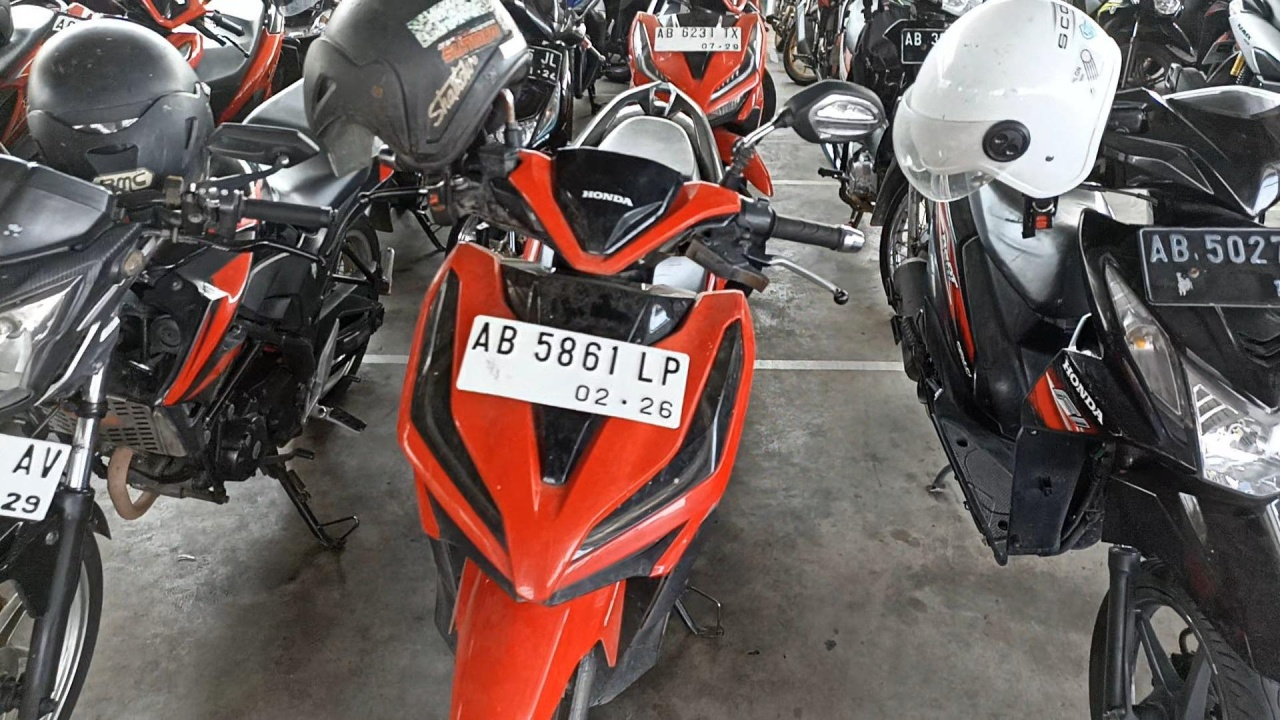plate: (457, 314, 690, 428), (655, 27, 742, 51)
